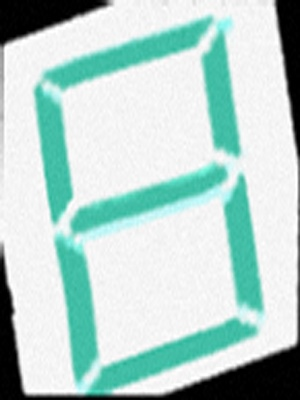eight: (20, 20, 285, 390)
